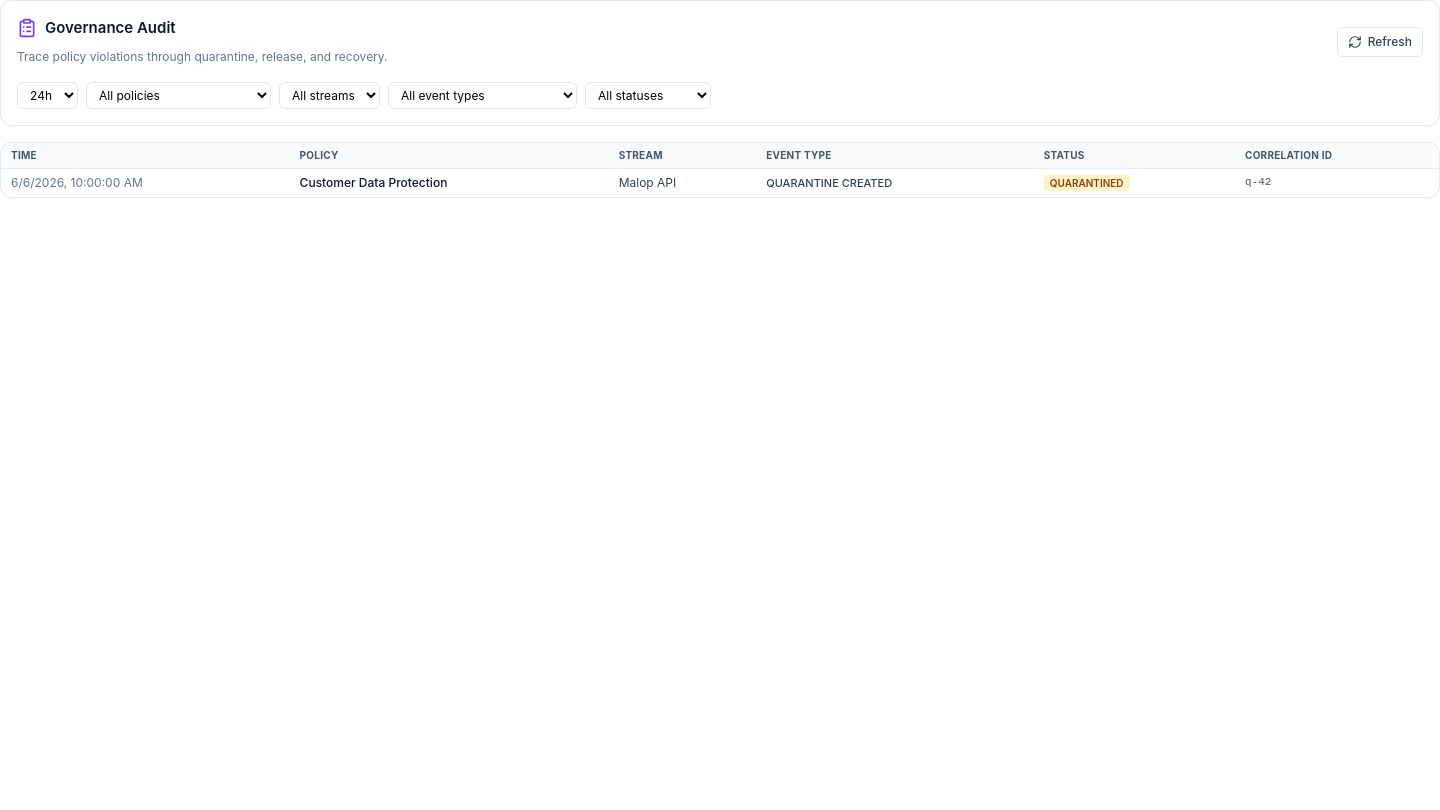
it: AuditTrailPage › closes drawer
Click the row with test id "audit-row-q-42-QUARANTINE_CREATED": [77, 183] box [1,168,1439,197]
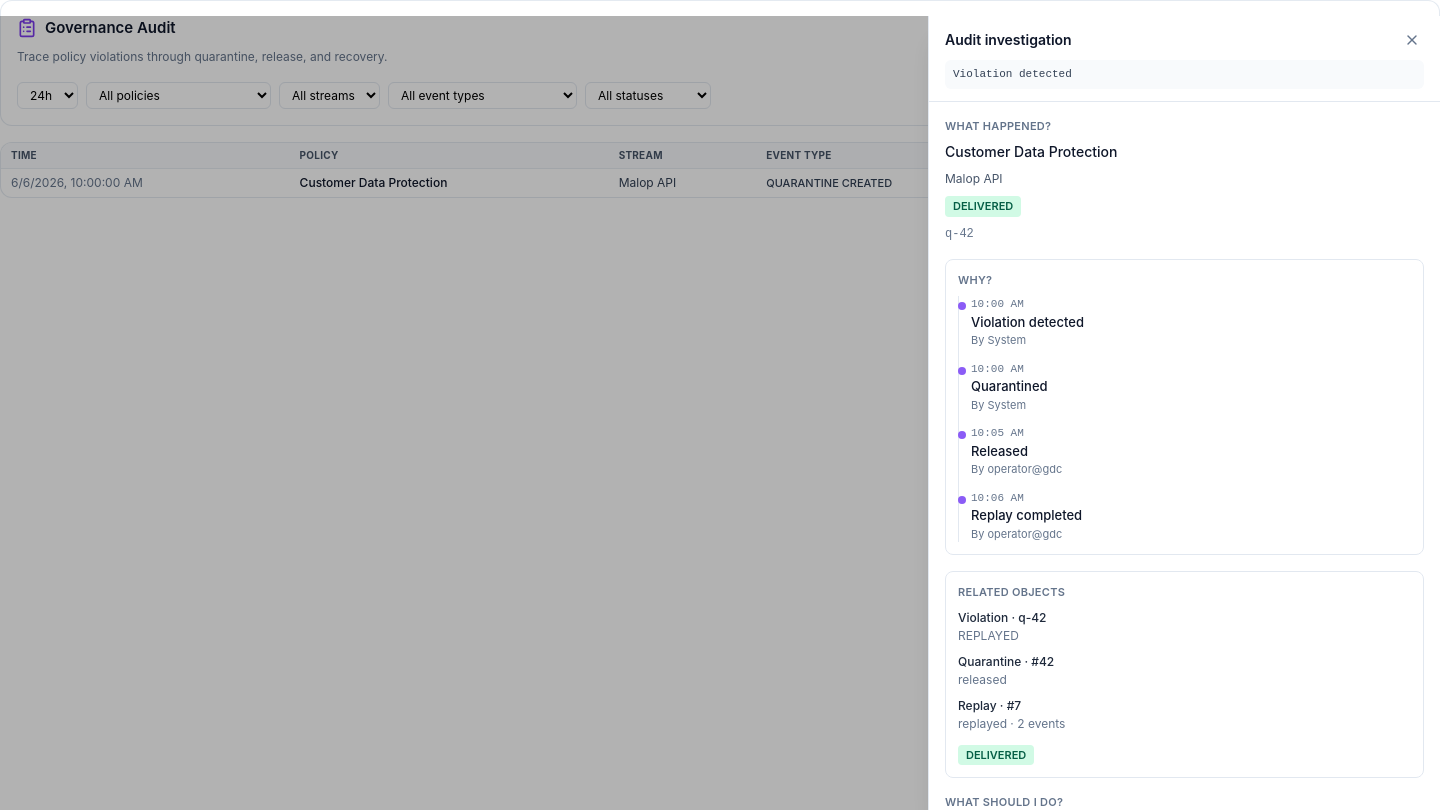
Now the element with test id "audit-detail-drawer" is shown, box [928,16,1439,809]
Click the button with test id "audit-detail-close": [1412, 40] box [1400,28,1424,52]
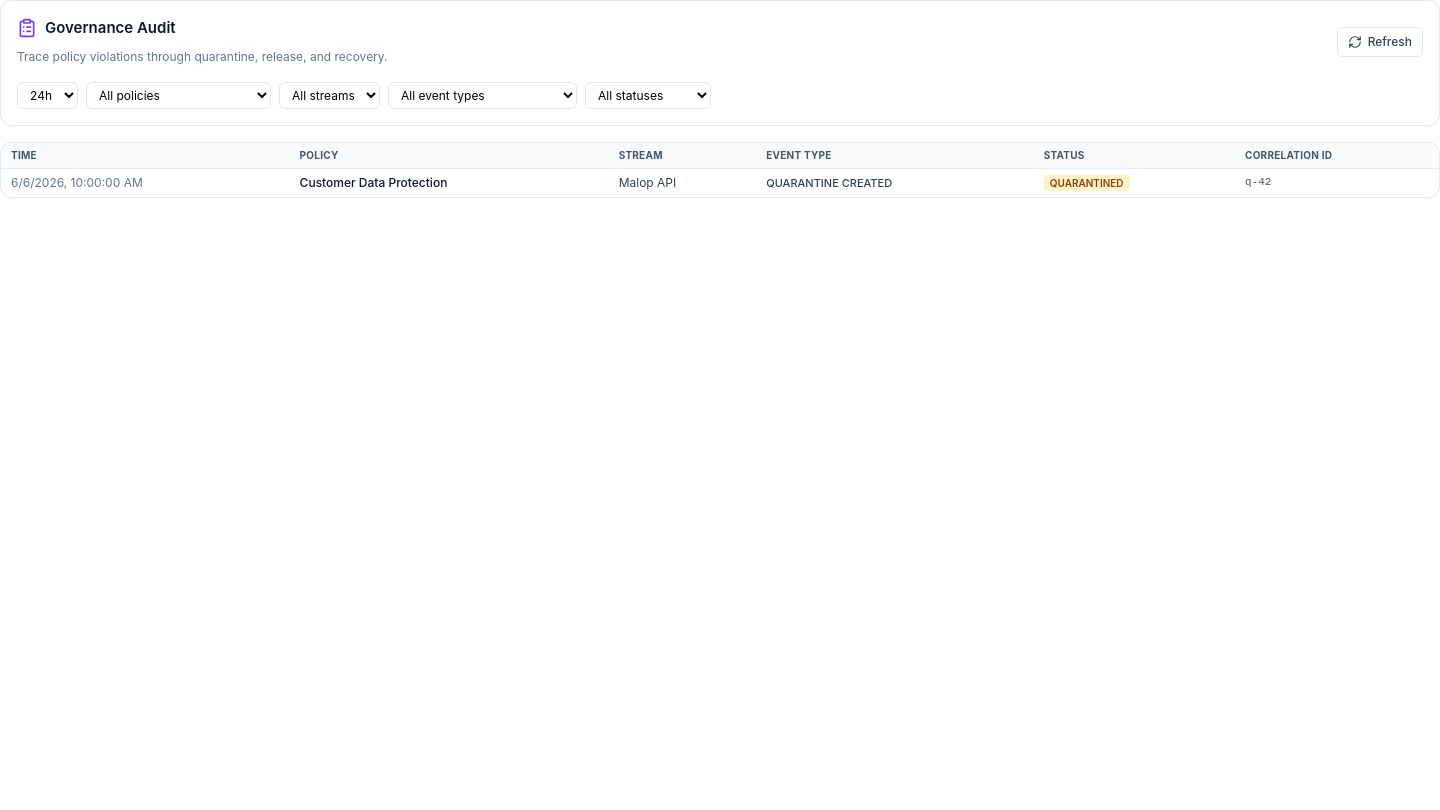
Now the element with test id "audit-detail-drawer" is gone
